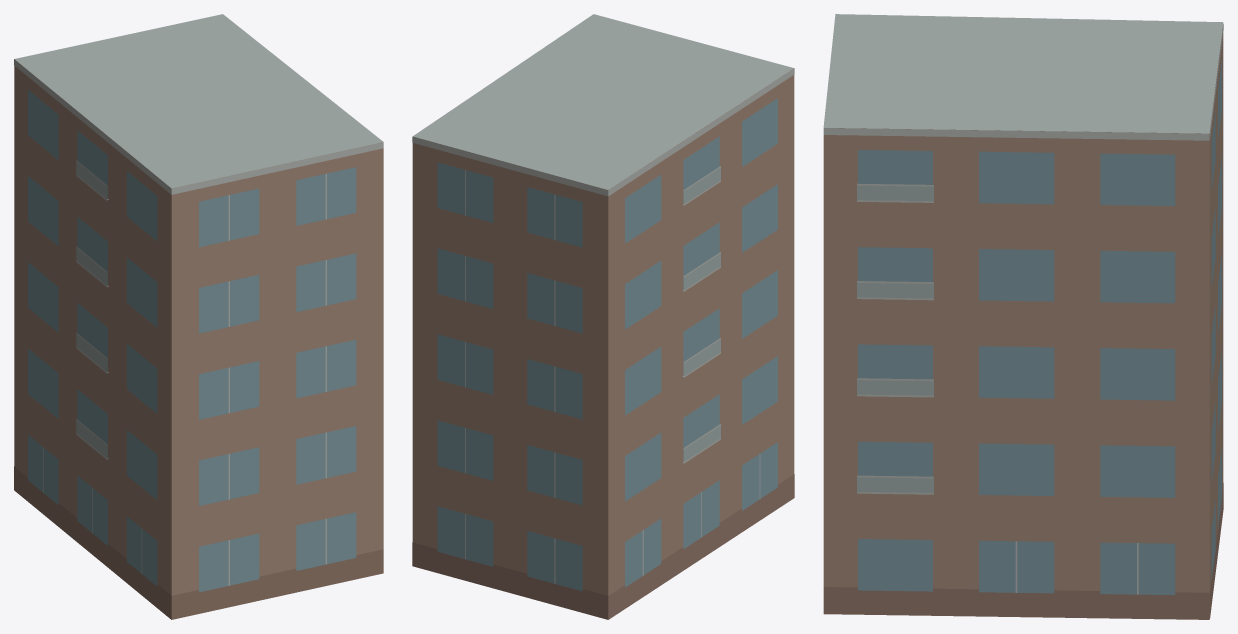
The model's file is survey-upis-32963897.glb.
3 views of the same model, side by side, from view 1: azimuth 30°, elevation 25°; view 2: azimuth 150°, elevation 25°; view 3: azimuth 270°, elevation 25° (orthographic). The views are drawn at different scales.
Visible parts, largest first — view 1: survey-upis-32963897.tmp; view 2: survey-upis-32963897.tmp; view 3: survey-upis-32963897.tmp.
Part boxes in pixels (bbox=[...]): survey-upis-32963897.tmp: bbox=[14, 14, 383, 619]; survey-upis-32963897.tmp: bbox=[412, 14, 794, 619]; survey-upis-32963897.tmp: bbox=[823, 14, 1223, 619].
Size of the model in its own units: 8.76 by 16.6 by 12.39.
